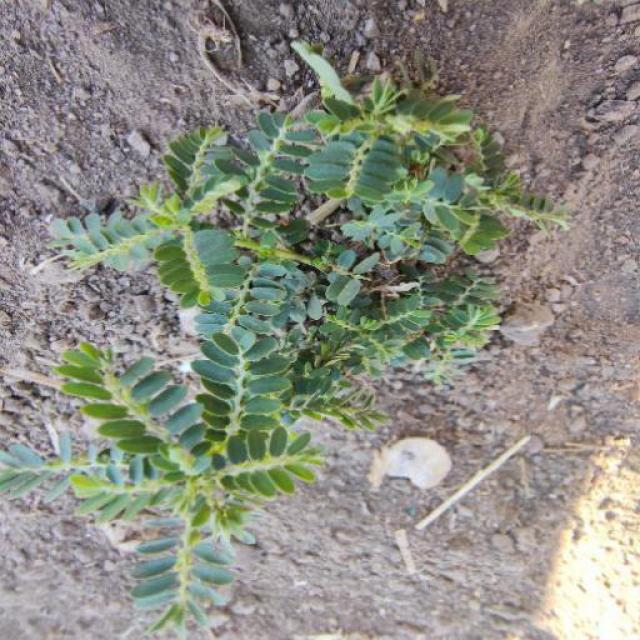weed: (51, 92, 508, 608)
